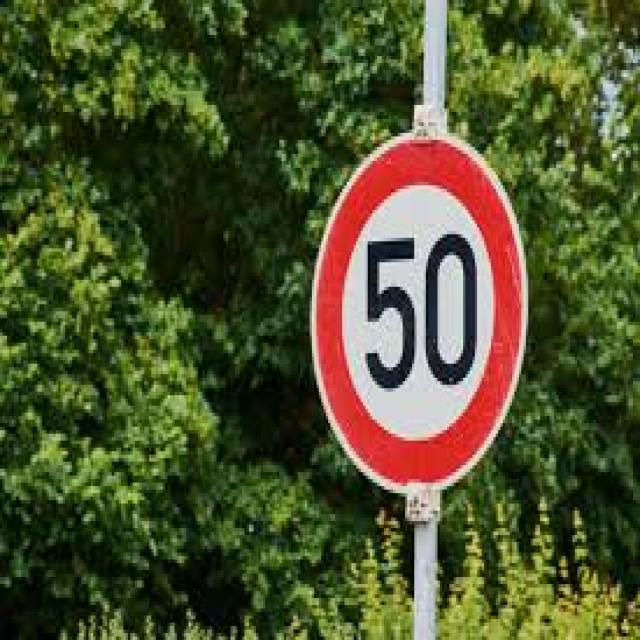Speed limit 50: (308, 127, 532, 498)
